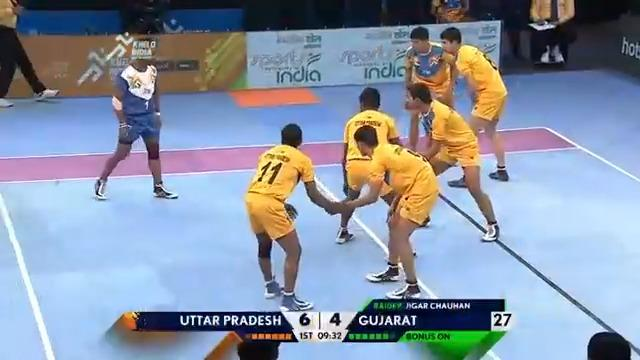Player: (243, 122, 352, 311), (336, 124, 440, 300), (404, 82, 500, 242), (432, 26, 509, 187), (336, 86, 402, 244), (402, 26, 458, 153)
Raider: (91, 60, 177, 200)
referee: (0, 0, 60, 107), (527, 0, 577, 67), (119, 0, 182, 35)
